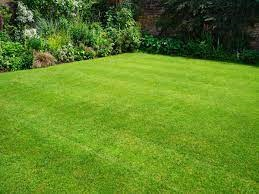grass: (1, 53, 256, 191)
